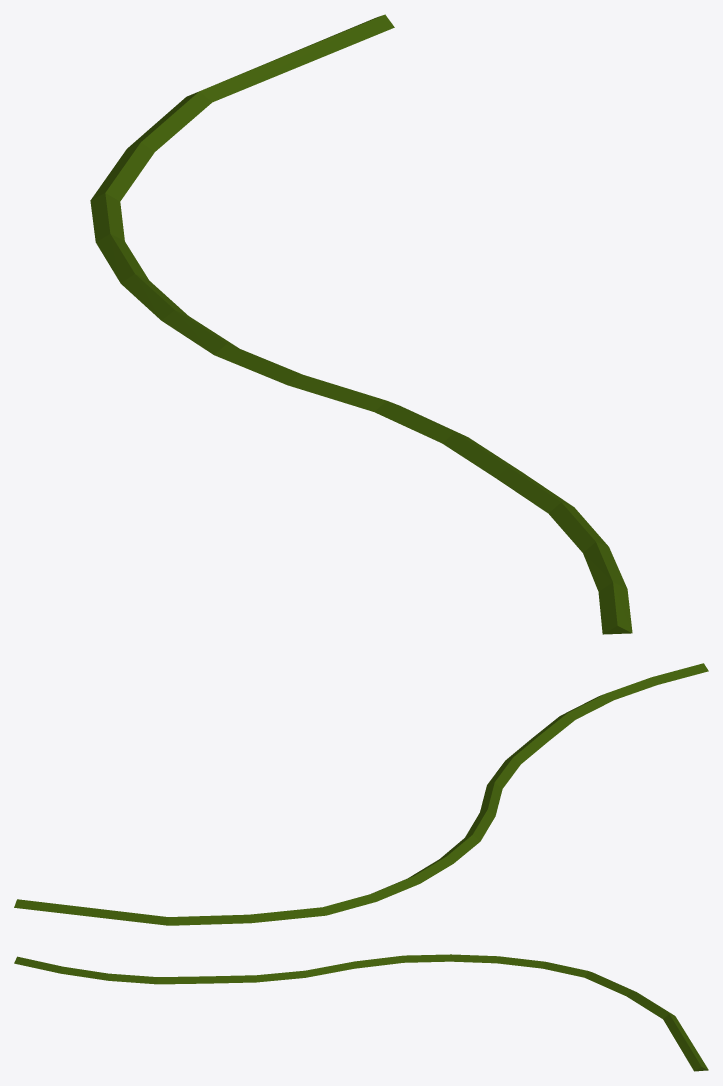
The model's file is Prop_Vegetation_Jungle_Vine_Laying_01.FBX.
The picture shows the model from 3 angles, top to bottom: view 1: azimuth 30°, elevation 25°; view 2: azimuth 150°, elevation 25°; view 3: azimuth 270°, elevation 25°; orthographic projection. The views are drawn at different scales.
Visible parts, largest first — view 1: Prop_Vegetation_Jungle_Vine_Laying_01; view 2: Prop_Vegetation_Jungle_Vine_Laying_01; view 3: Prop_Vegetation_Jungle_Vine_Laying_01.
Part boxes in pixels (left/top/right/bottom): Prop_Vegetation_Jungle_Vine_Laying_01: left=90, top=14, right=632, bottom=634; Prop_Vegetation_Jungle_Vine_Laying_01: left=14, top=663, right=708, bottom=925; Prop_Vegetation_Jungle_Vine_Laying_01: left=14, top=954, right=708, bottom=1071.
Size of the model in its own units: 1199 by 19.83 by 3036.
